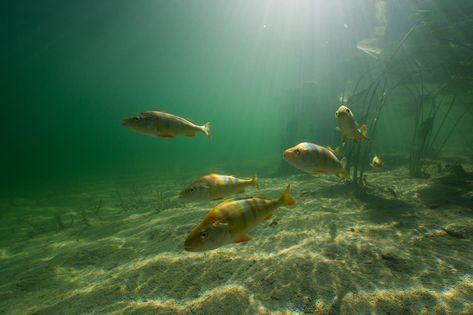fish: (183, 182, 296, 252), (121, 109, 212, 141), (282, 141, 351, 182), (177, 172, 259, 202), (336, 106, 369, 143), (368, 154, 383, 168)
